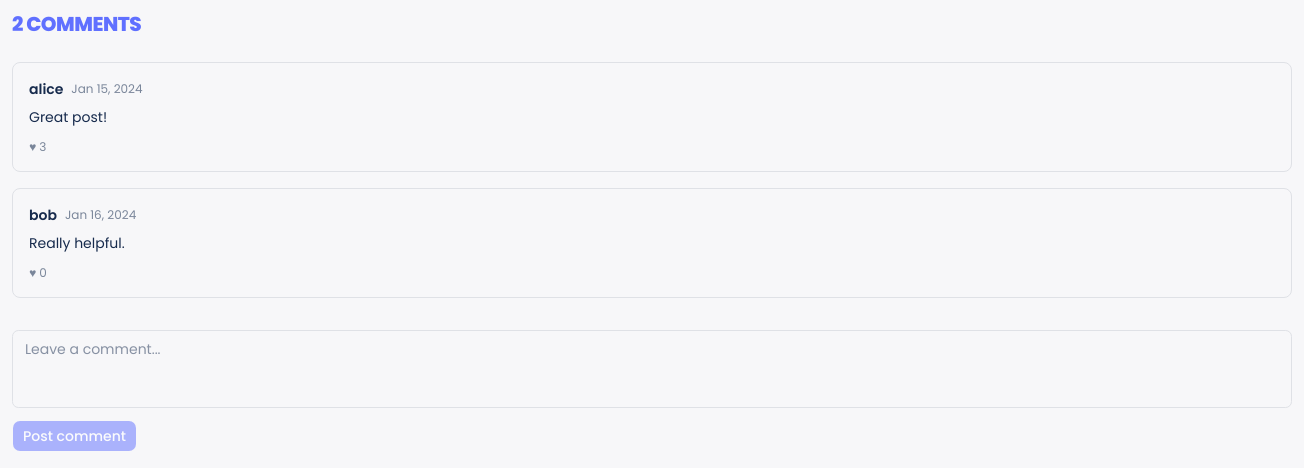
Test: CommentSection › liking a comment updates the count and toggles to Unlike
Click the button named "Like" at (38, 147), box x1=29 y1=139 x2=46 y2=155
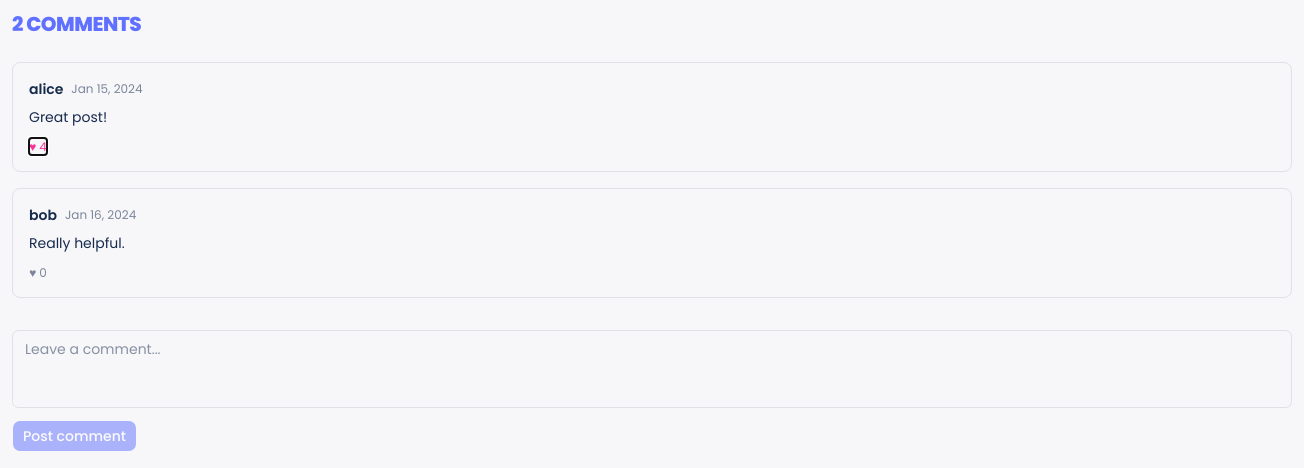
expect the button named "Unlike" is shown: met, box x1=29 y1=139 x2=47 y2=155
